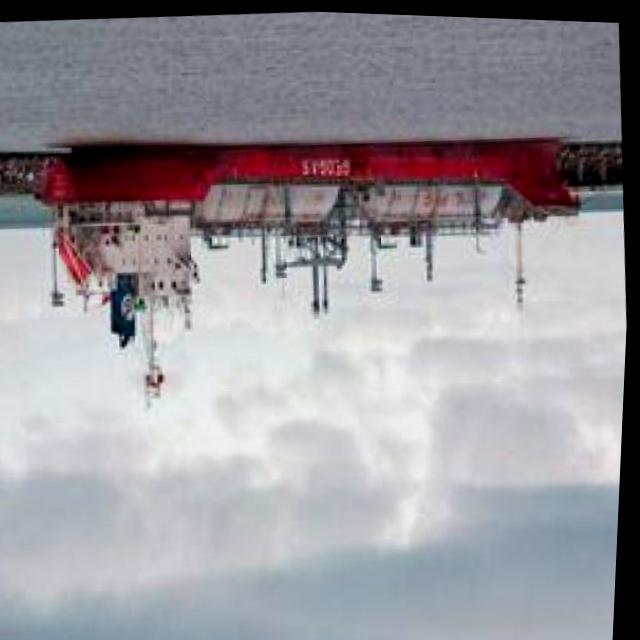ship2: (35, 134, 582, 405)
